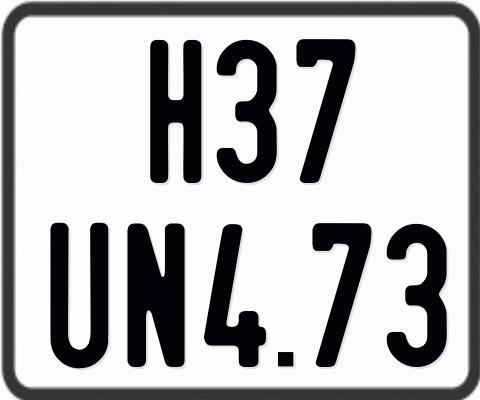3: (385, 224, 449, 373), (214, 37, 274, 181)
4: (202, 221, 270, 366)
7: (295, 39, 360, 186), (311, 220, 372, 366)
H: (149, 38, 206, 186)
N: (125, 221, 183, 367)
U: (47, 222, 106, 373)
